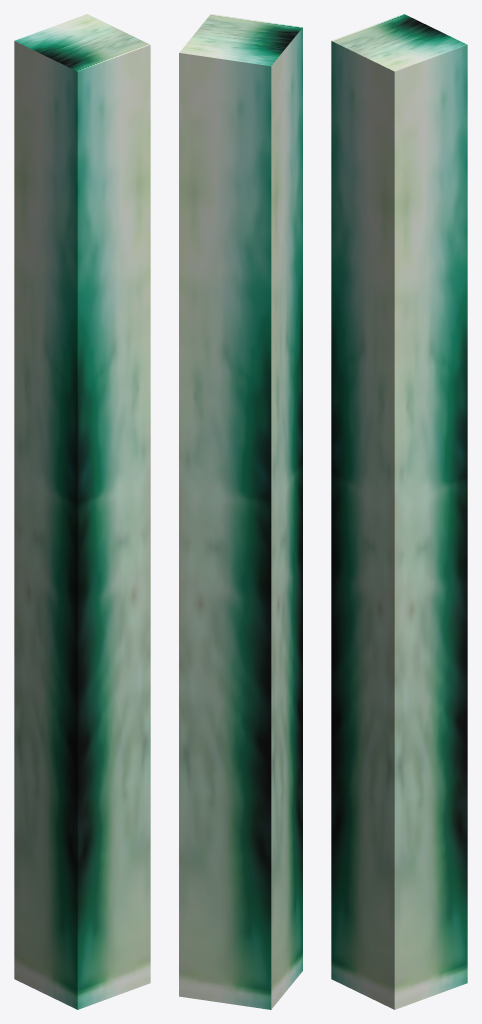
File: Ridge_Block_1.gltf
3 views of the same model, side by side, from view 1: azimuth 90°, elevation 25°; view 2: azimuth 210°, elevation 25°; view 3: azimuth 270°, elevation 25° (orthographic).
Visible parts, largest first — view 1: Ridge_Block_1; view 2: Ridge_Block_1; view 3: Ridge_Block_1.
Part boxes in pixels (bbox=[...]): Ridge_Block_1: bbox=[14, 14, 150, 1009]; Ridge_Block_1: bbox=[179, 14, 302, 1009]; Ridge_Block_1: bbox=[331, 14, 467, 1009].
Size of the model in its own units: 5.84 by 44.28 by 5.84.
1 material, 1 textured.
